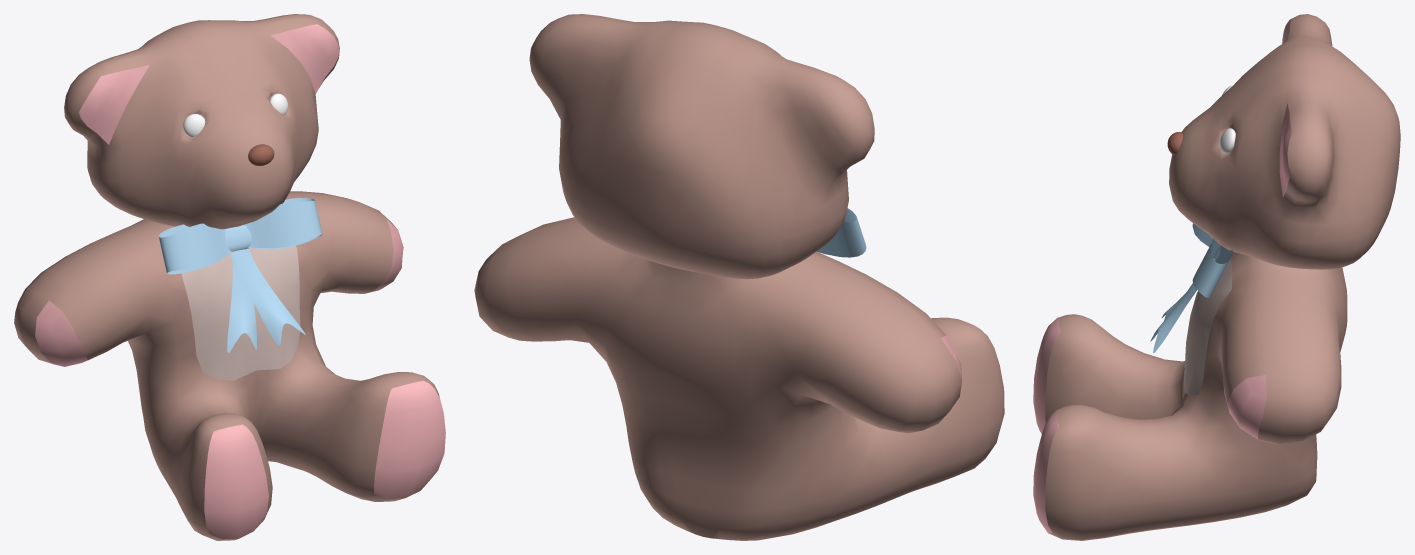
The model's file is stufed-bear.fbx.
3 views of the same model, side by side, from view 1: azimuth 30°, elevation 25°; view 2: azimuth 150°, elevation 25°; view 3: azimuth 270°, elevation 25° (orthographic). The views are drawn at different scales.
Parts seen in each view (by area): view 1: Cadnav.com_C0601053, bowtie; view 2: Cadnav.com_C0601053, bowtie; view 3: Cadnav.com_C0601053, bowtie.
Boxes of the visible parts, x1,y1,x2,y2 form: Cadnav.com_C0601053: [14, 14, 445, 540]; bowtie: [158, 198, 322, 352]; Cadnav.com_C0601053: [474, 14, 1004, 540]; bowtie: [817, 208, 866, 257]; Cadnav.com_C0601053: [1033, 14, 1400, 540]; bowtie: [1150, 223, 1232, 353].
Size of the model in its own units: 95.12 by 100 by 75.21.
